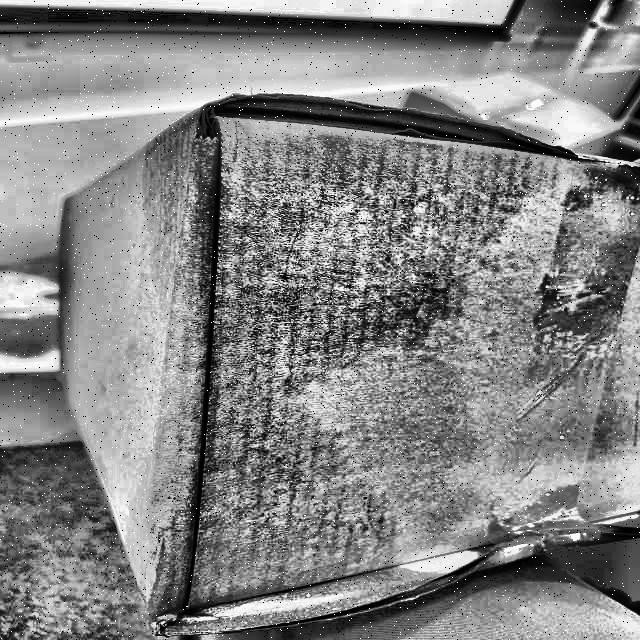box: (52, 74, 640, 622), (0, 491, 1, 492)
wet: (128, 90, 484, 626)
